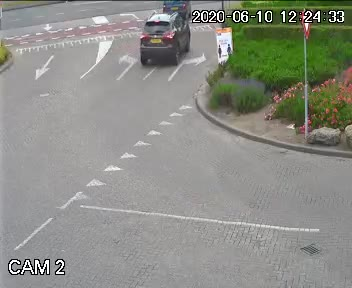car: (135, 16, 197, 68), (161, 0, 193, 18)
